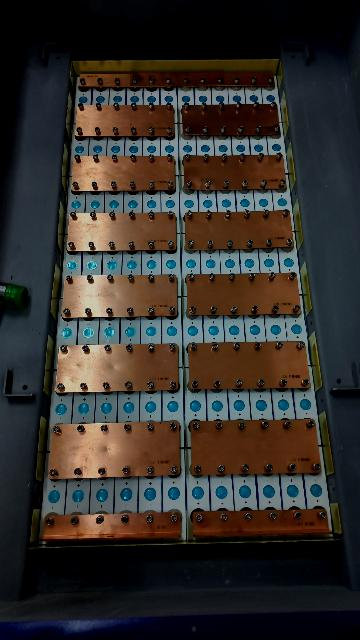busbar: (42, 415, 188, 486), (182, 337, 315, 395), (191, 419, 322, 477), (56, 345, 178, 393), (186, 272, 301, 316), (62, 276, 177, 318), (180, 99, 285, 143), (42, 512, 181, 545), (183, 209, 293, 249), (66, 214, 176, 253), (195, 509, 330, 540), (182, 156, 286, 193), (72, 156, 176, 193), (75, 105, 176, 138), (80, 73, 275, 89), (79, 74, 130, 88)
